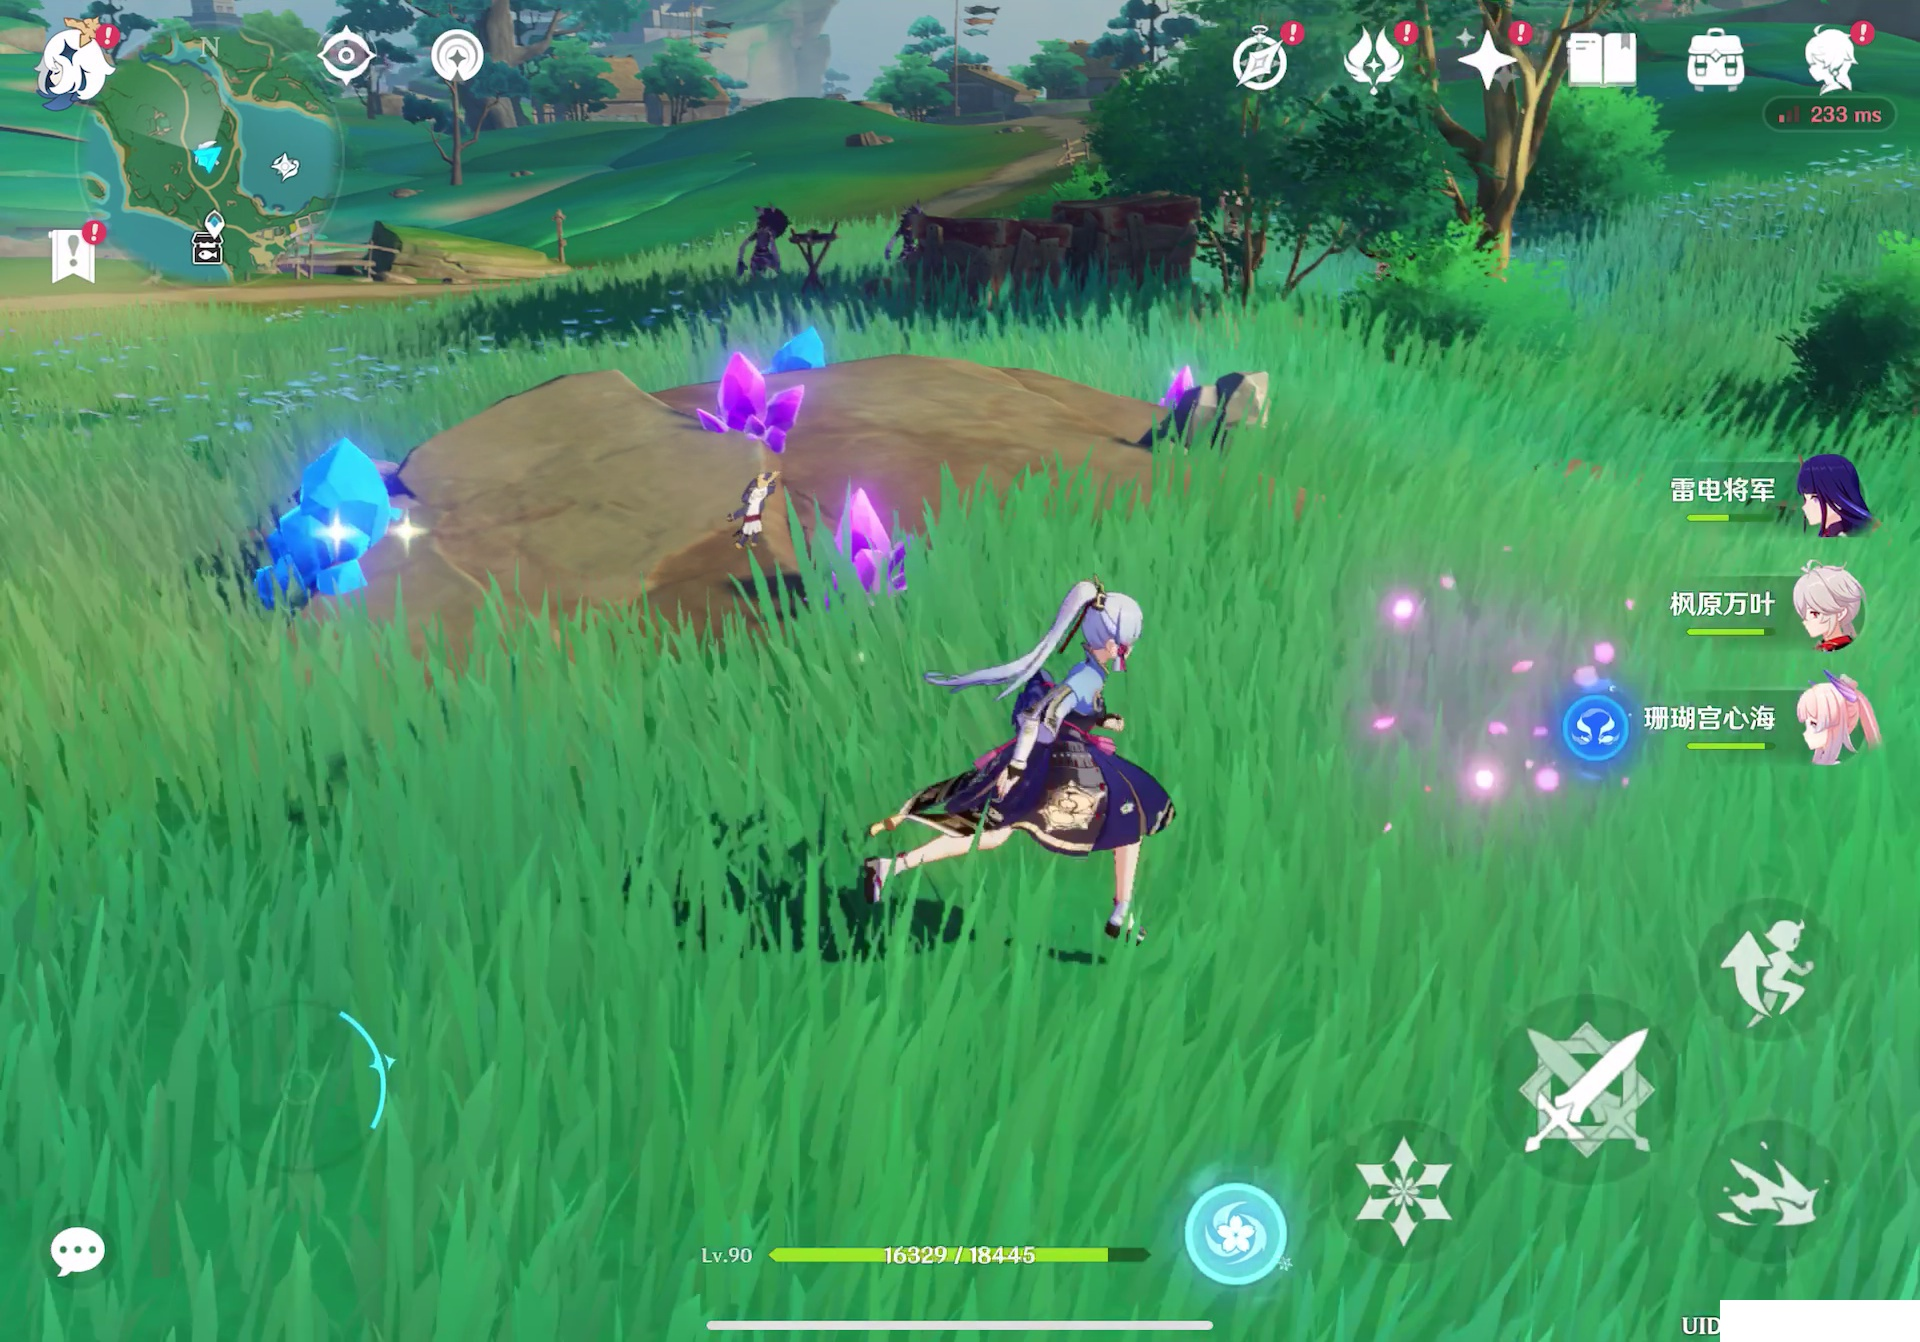丘丘人: (743, 203, 788, 283)
白铁矿石: (1177, 379, 1312, 470)
神里绫龟: (916, 570, 1185, 969)
紫矿石: (810, 492, 926, 611), (705, 354, 813, 473)
蓝矿石: (261, 455, 403, 601), (775, 322, 829, 372)
